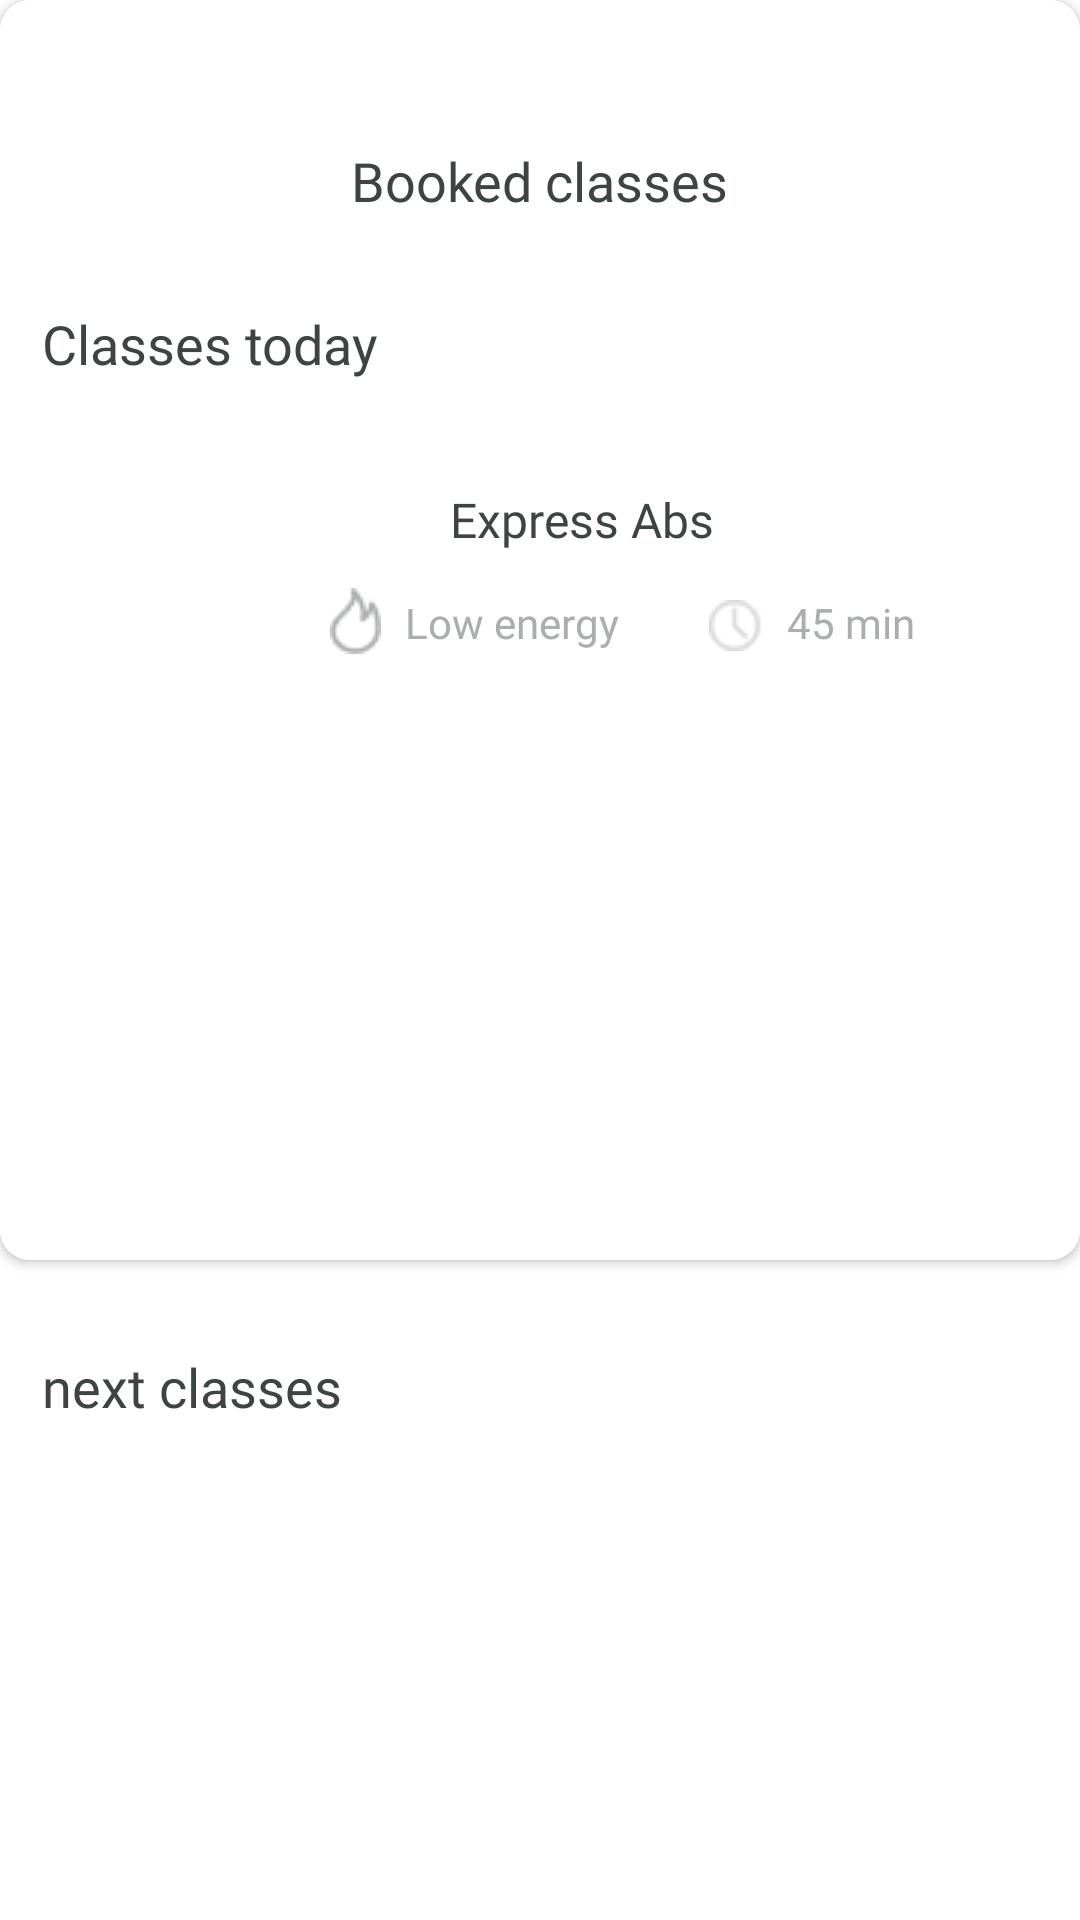

Icons on this 1080px×1920px Android screen, each with its box as [left=x1, top=y1, right=x2, bottom=y2]:
time: [left=709, top=600, right=760, bottom=651]
